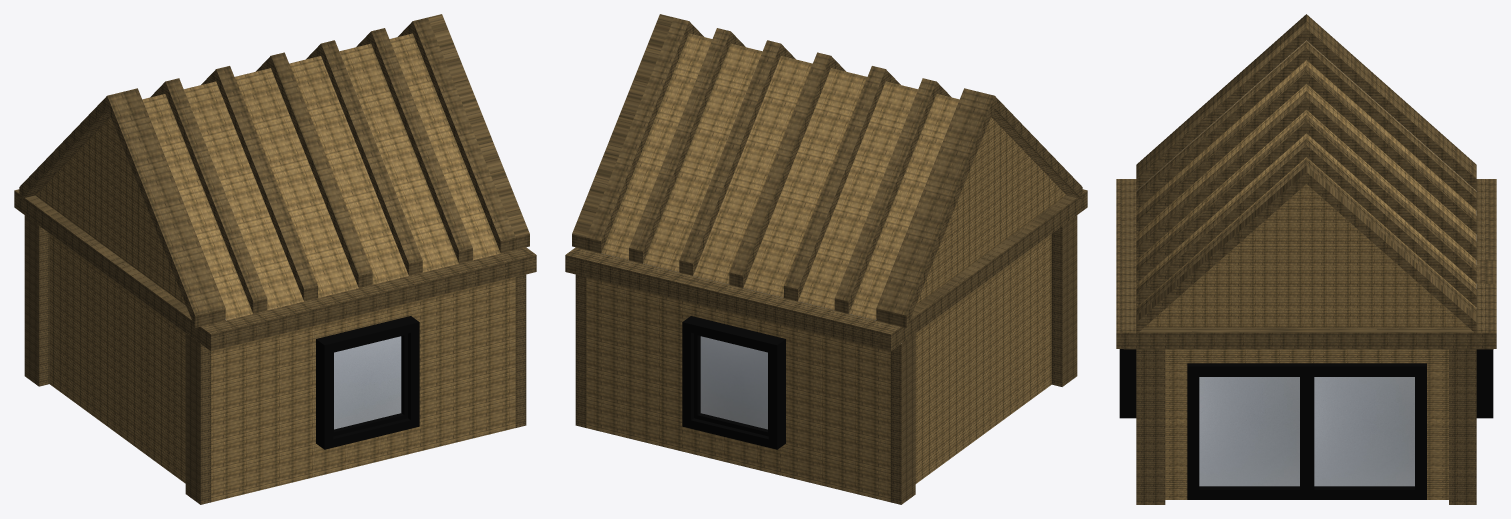
File: House2_Mapped.fbx
3 renders of one model, left to right at view 1: azimuth 30°, elevation 25°; view 2: azimuth 150°, elevation 25°; view 3: azimuth 270°, elevation 25°, orthographic. The views are drawn at different scales.
Parts seen in each view (by area): view 1: pCube1; view 2: pCube1; view 3: pCube1.
Part boxes in pixels (<box>): pCube1: <box>14,14,536,504</box>; pCube1: <box>565,14,1087,504</box>; pCube1: <box>1116,14,1496,504</box>.
Size of the model in its own units: 48.04 by 47.47 by 48.88.
